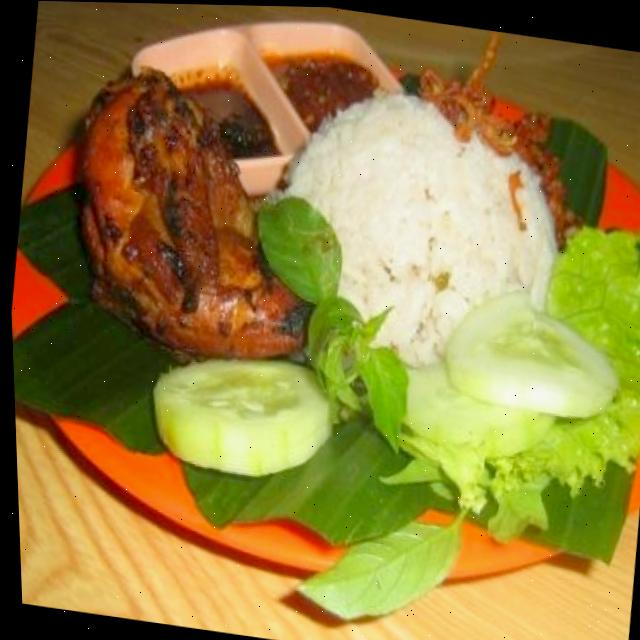米饭主食: (0, 0, 640, 621)
